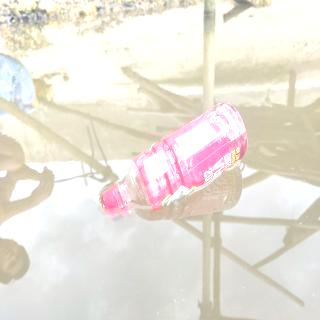bottle: (98, 97, 252, 222)
